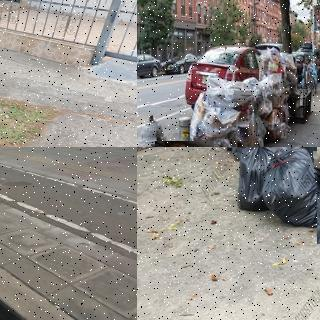Garbage: (260, 147, 320, 226), (209, 76, 266, 147), (186, 91, 249, 147), (236, 147, 268, 210), (256, 43, 285, 87), (245, 76, 274, 114)
